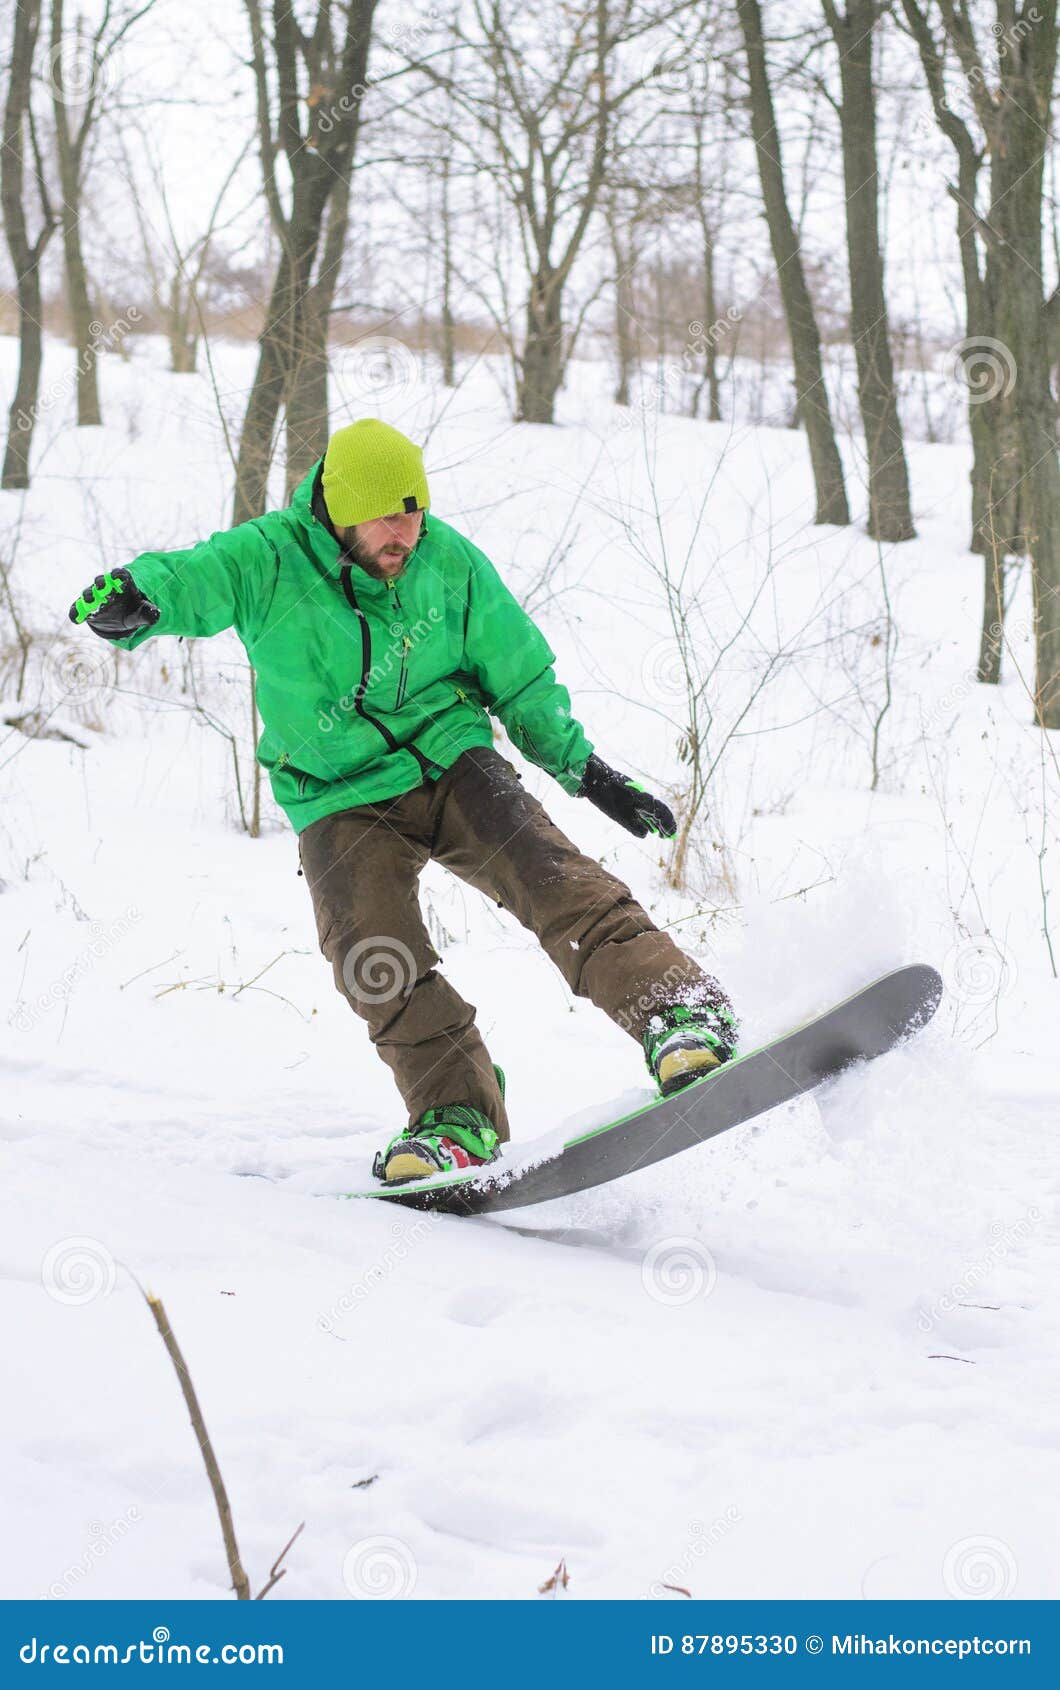snowboarder: (61, 410, 951, 1257)
